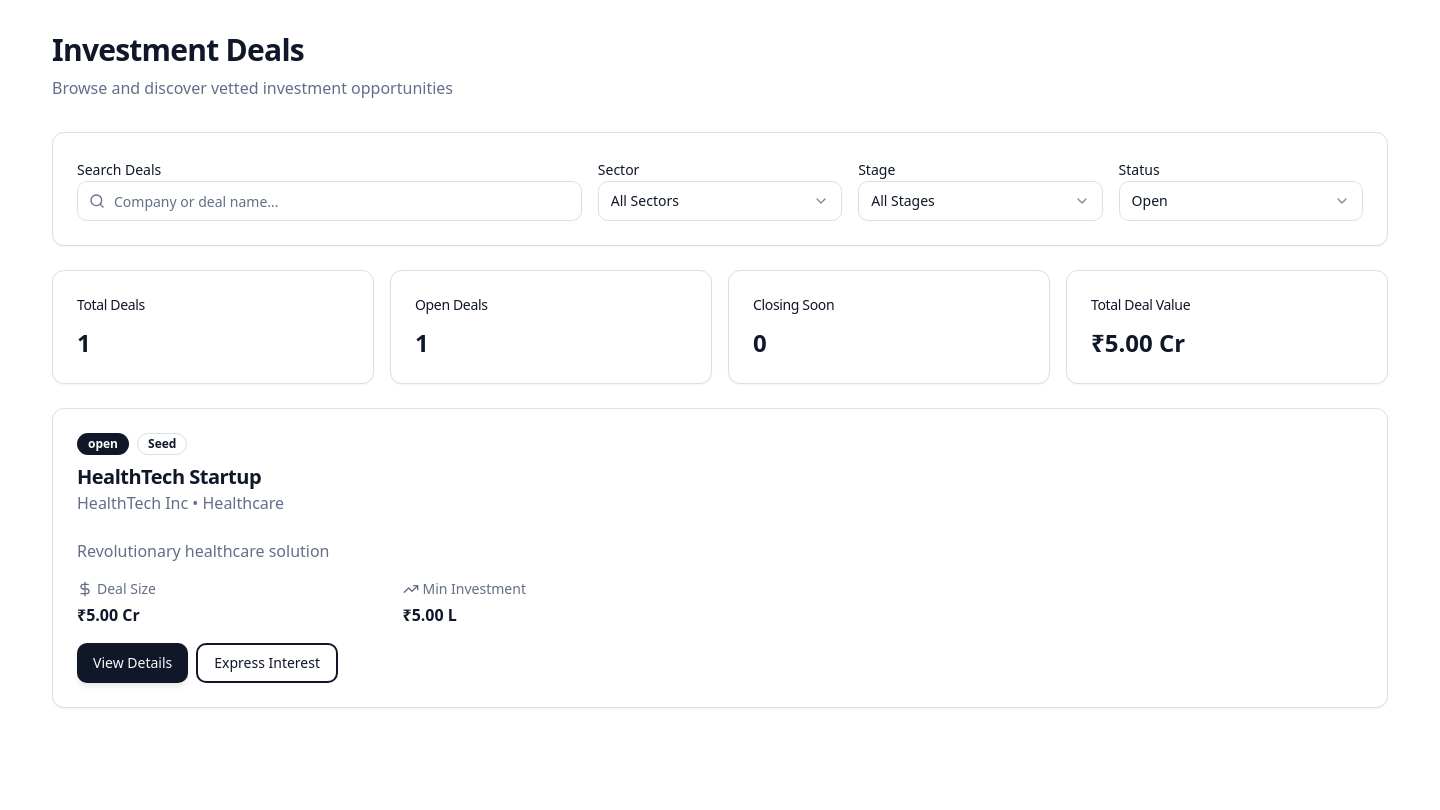
Test: US-INVESTOR-004: Express Interest in Deal › Interest Dialog › should open interest dialog when clicking Express Interest
Expected: the text "HealthTech Startup" is shown, [77, 463, 261, 490]
Step 1. Click the button "Express Interest" → (267, 663), box [196, 643, 338, 683]
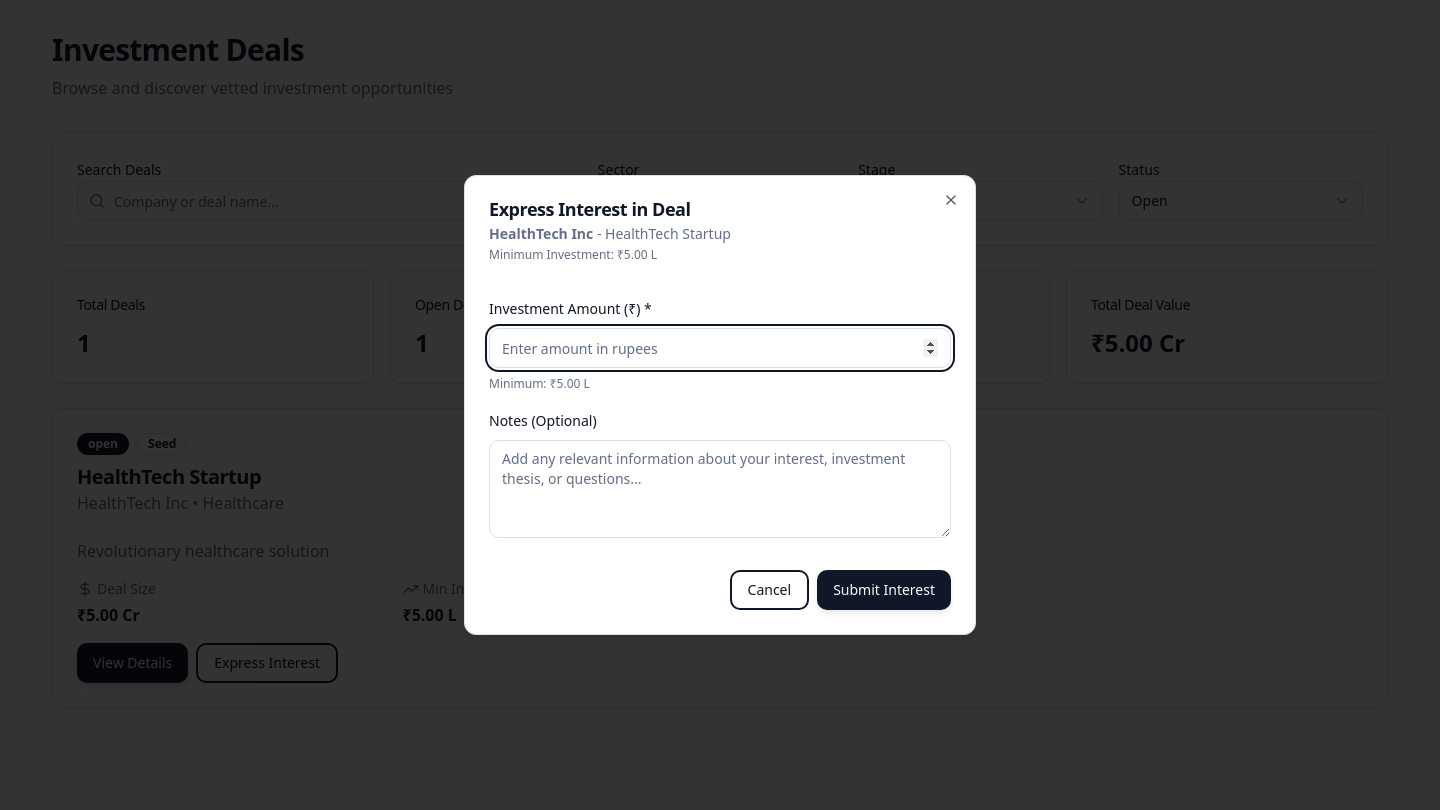
Result: the number field labelled "Investment Amount (₹) *" is shown at [489, 328, 951, 368]
